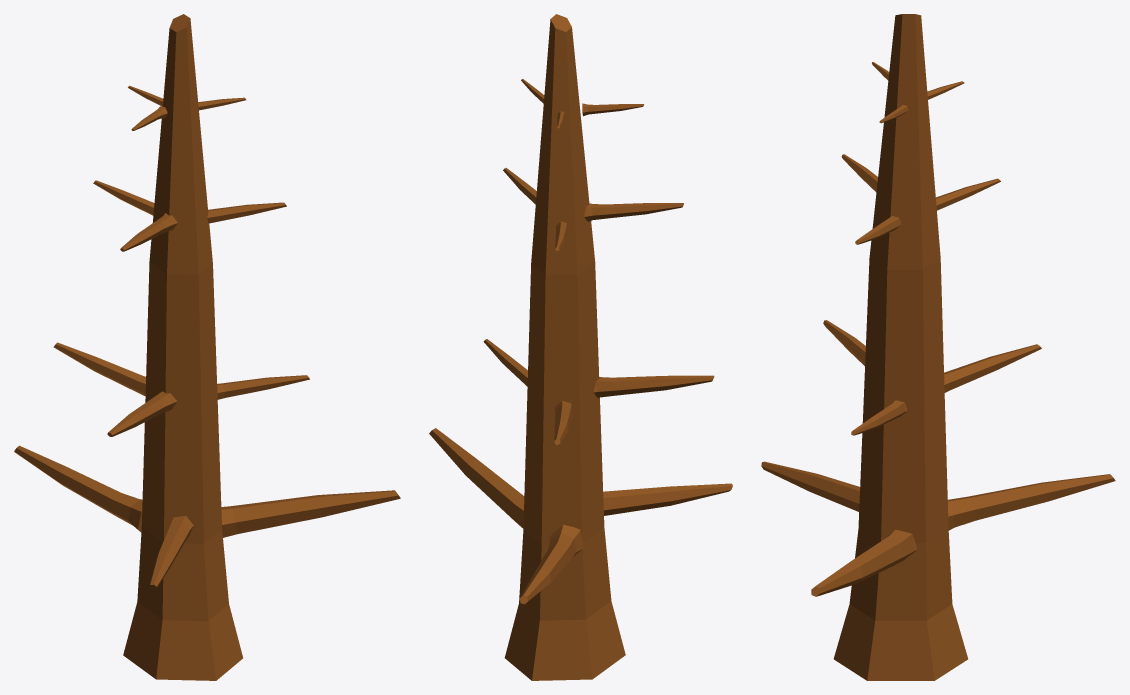
File: SpruceSmallDead.fbx
3 views of the same model, side by side, from view 1: azimuth 30°, elevation 25°; view 2: azimuth 150°, elevation 25°; view 3: azimuth 270°, elevation 25° (orthographic). The views are drawn at different scales.
Visible parts, largest first — view 1: Spruce.002; view 2: Spruce.002; view 3: Spruce.002.
Boxes of the visible parts, x1,y1,x2,y2 form: Spruce.002: (14,14,400,680); Spruce.002: (429,14,732,680); Spruce.002: (761,14,1115,680).
Bounding box in the file's own units: 0.4826 × 1.02 × 0.5053.
